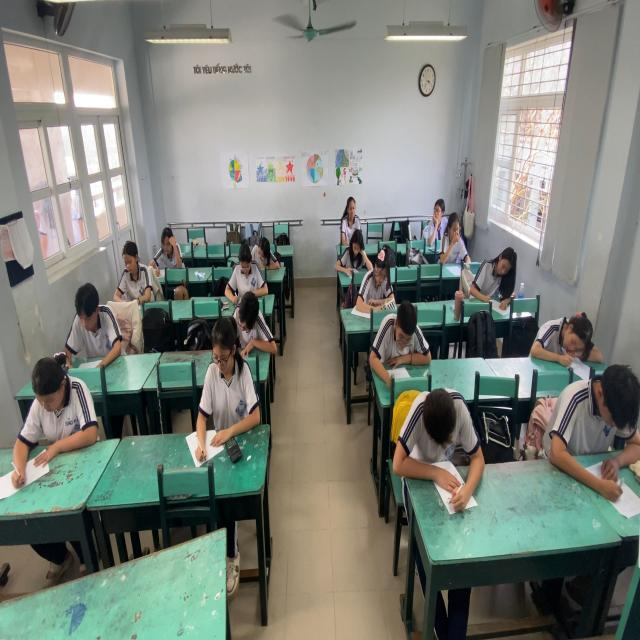cheating: (420, 188, 452, 254)
not_cheating: (534, 348, 638, 514), (388, 362, 486, 524), (22, 348, 100, 496), (198, 309, 260, 458), (61, 273, 126, 389), (526, 286, 598, 386), (367, 284, 432, 382), (223, 284, 278, 368), (104, 230, 154, 322), (467, 231, 522, 312), (354, 236, 400, 328), (148, 213, 192, 290), (225, 235, 272, 303), (435, 206, 474, 272), (334, 222, 375, 284), (242, 220, 282, 282), (333, 189, 373, 248)
